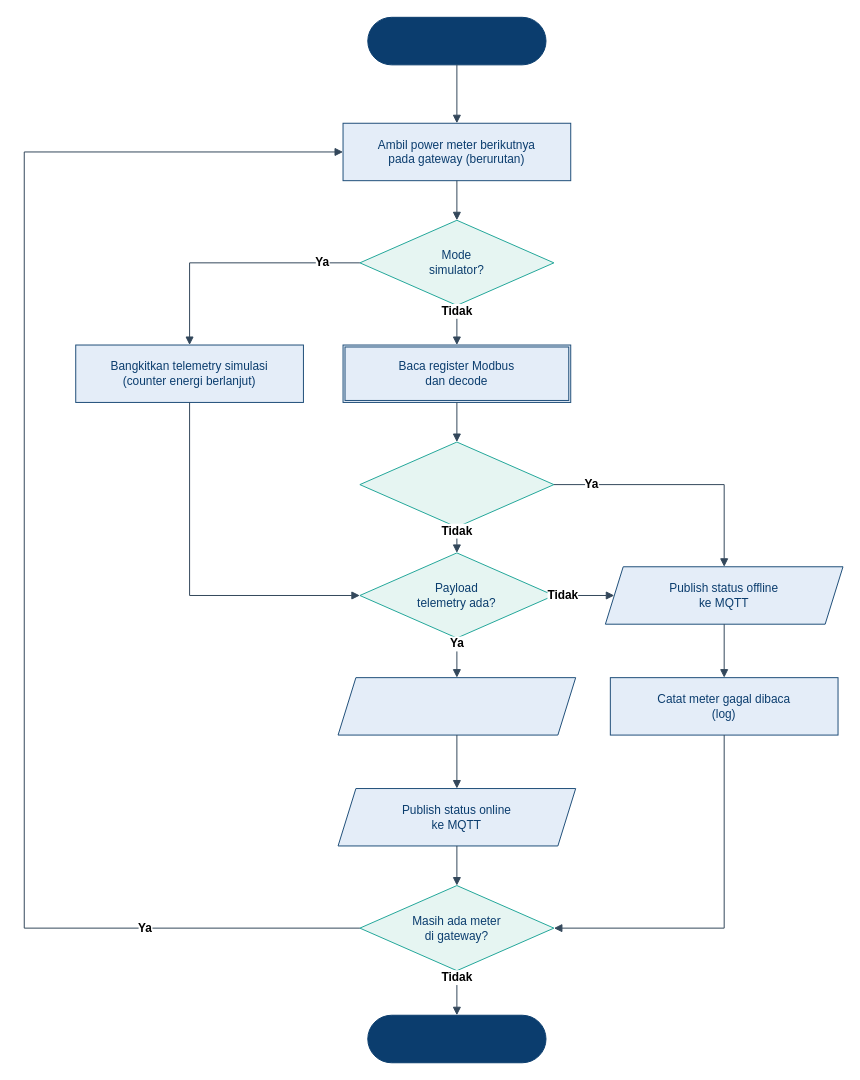
Some shapes in this 860 by 1080 pixel diagram are drawn without their labels. The box of each missing label's shape, as (x1, y1, x2, y2) in pixels:
KEMBALI: (367, 1014, 546, 1063)
MULAI Polling gateway: (367, 16, 546, 65)
Publish telemetry ke MQTT (QoS 1): (337, 677, 576, 735)
Terjadi error baca / koneksi?: (359, 441, 554, 527)
